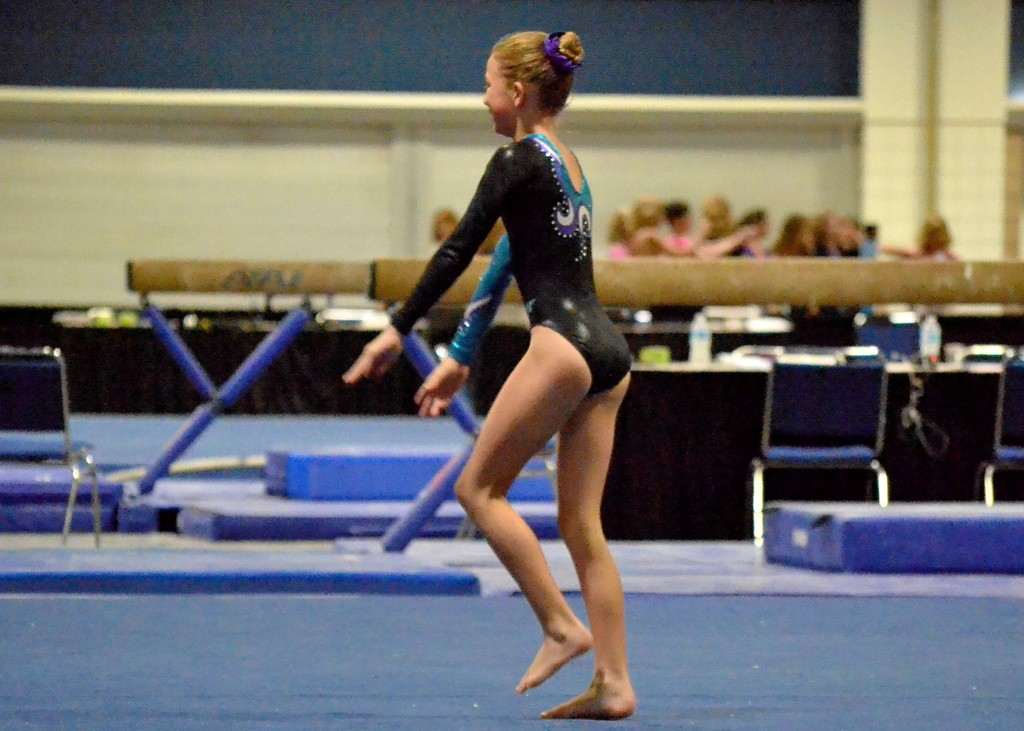Person: (432, 195, 965, 262)
